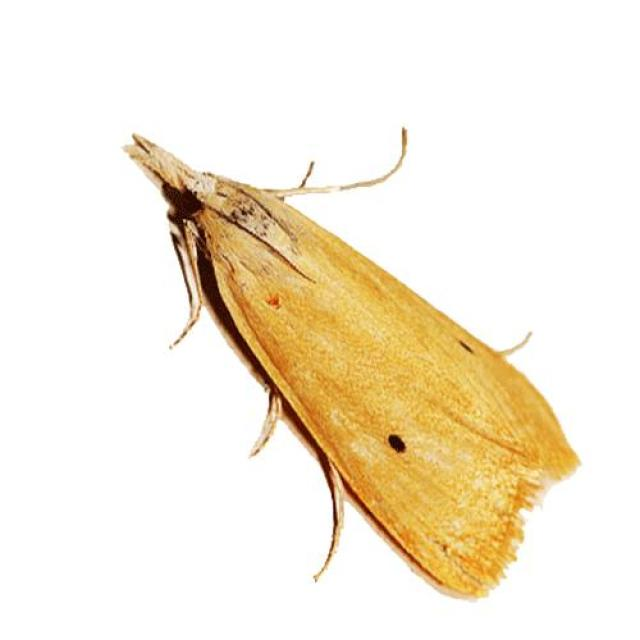yellow-stem-borer: (91, 98, 594, 618)
